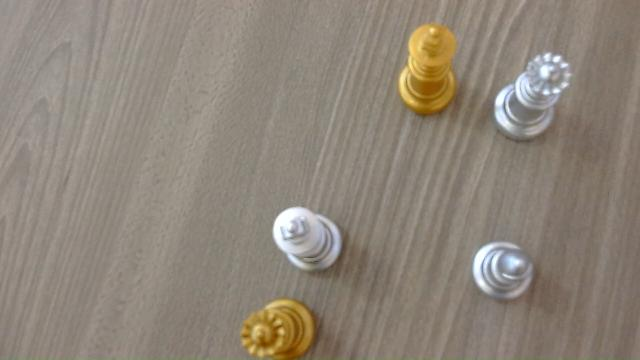black_king: (398, 24, 460, 115)
black_queen: (239, 299, 318, 360)
white_bishop: (471, 241, 536, 301)
white_king: (271, 206, 345, 273)
white_queen: (492, 51, 575, 140)
